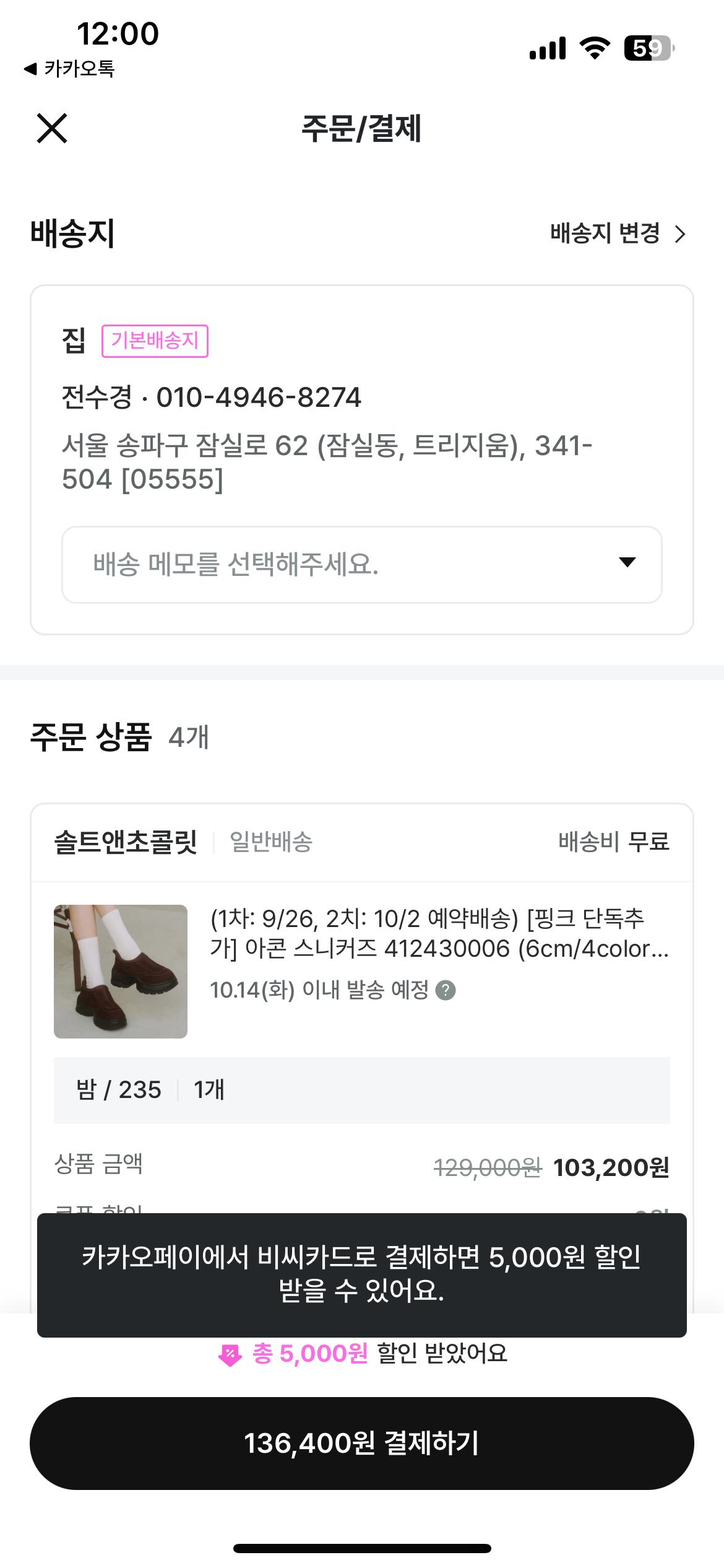button: (29, 1404, 699, 1495), (532, 215, 693, 250), (31, 114, 70, 155)
checkbox: (54, 533, 668, 601)
